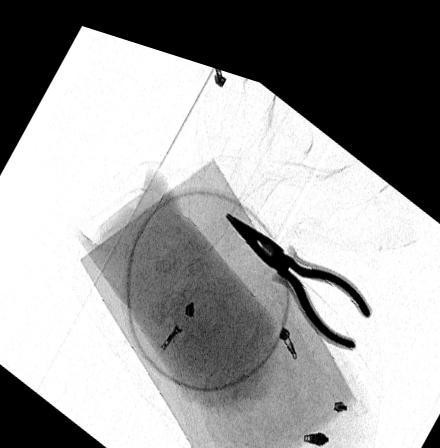Pliers: (222, 198, 373, 326)
